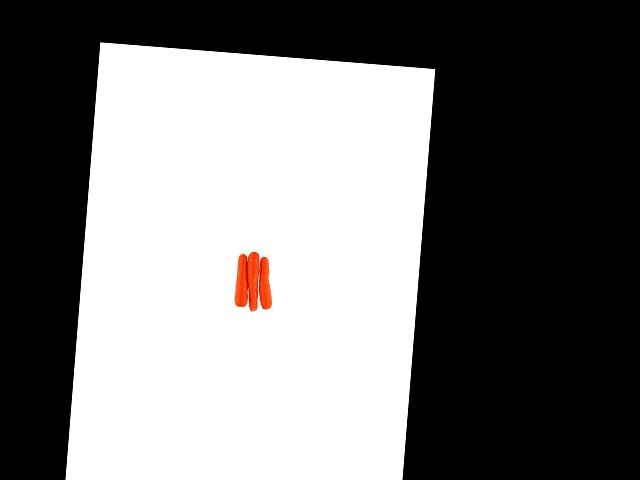carrot: (232, 248, 250, 311)
